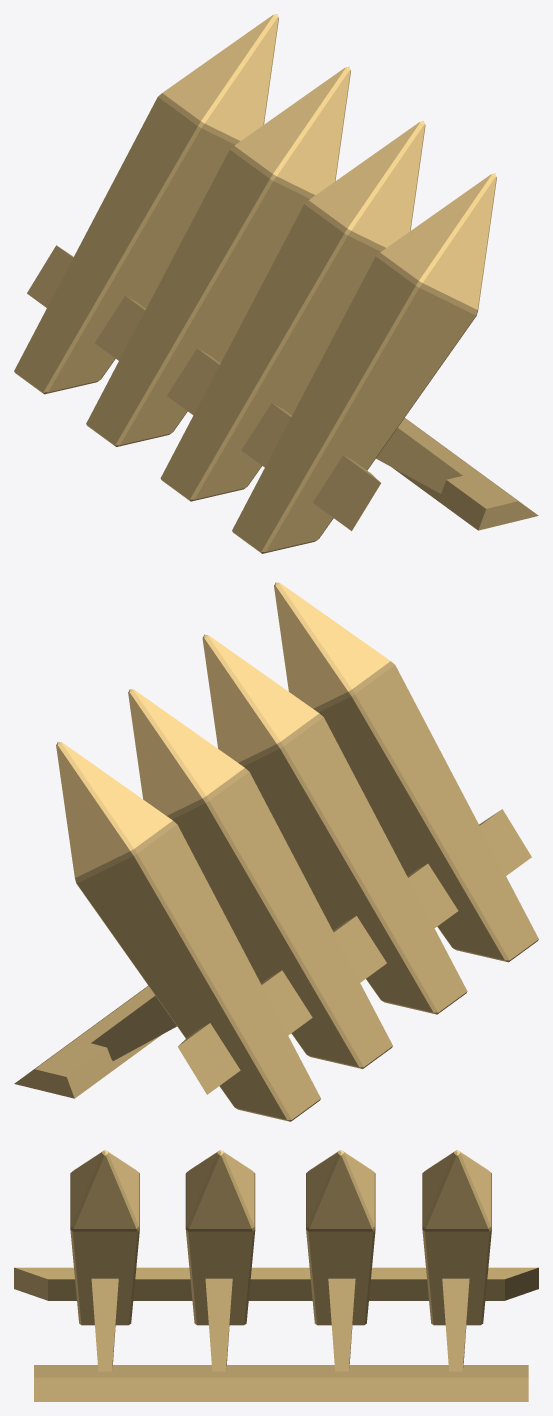
File: wood spikes.fbx
3 views of the same model, one above another, from view 1: azimuth 30°, elevation 25°; view 2: azimuth 150°, elevation 25°; view 3: azimuth 270°, elevation 25° (orthographic). The views are drawn at different scales.
Visible parts, largest first — view 1: Plane, Plane.004, Plane.005, Plane.006; view 2: Plane, Plane.004, Plane.005, Plane.009; view 3: Plane, Plane.005, Plane.004, Plane.008, Plane.006, Plane.007, Plane.009.
Boxes of the visible parts, left/top/right/bottom form: Plane: left=14, top=14, right=496, bottom=553; Plane.004: left=27, top=245, right=380, bottom=530; Plane.005: left=392, top=418, right=538, bottom=530; Plane.006: left=376, top=428, right=462, bottom=493; Plane: left=56, top=582, right=538, bottom=1121; Plane.004: left=178, top=809, right=531, bottom=1094; Plane.005: left=14, top=985, right=161, bottom=1098; Plane.009: left=91, top=995, right=176, bottom=1060; Plane: left=70, top=1150, right=491, bottom=1325; Plane.005: left=34, top=1365, right=528, bottom=1401; Plane.004: left=14, top=1267, right=538, bottom=1300; Plane.008: left=328, top=1278, right=355, bottom=1371; Plane.006: left=91, top=1278, right=118, bottom=1371; Plane.007: left=205, top=1278, right=232, bottom=1371; Plane.009: left=442, top=1278, right=469, bottom=1371.
Size of the model in its own units: 110 by 130 by 247.
